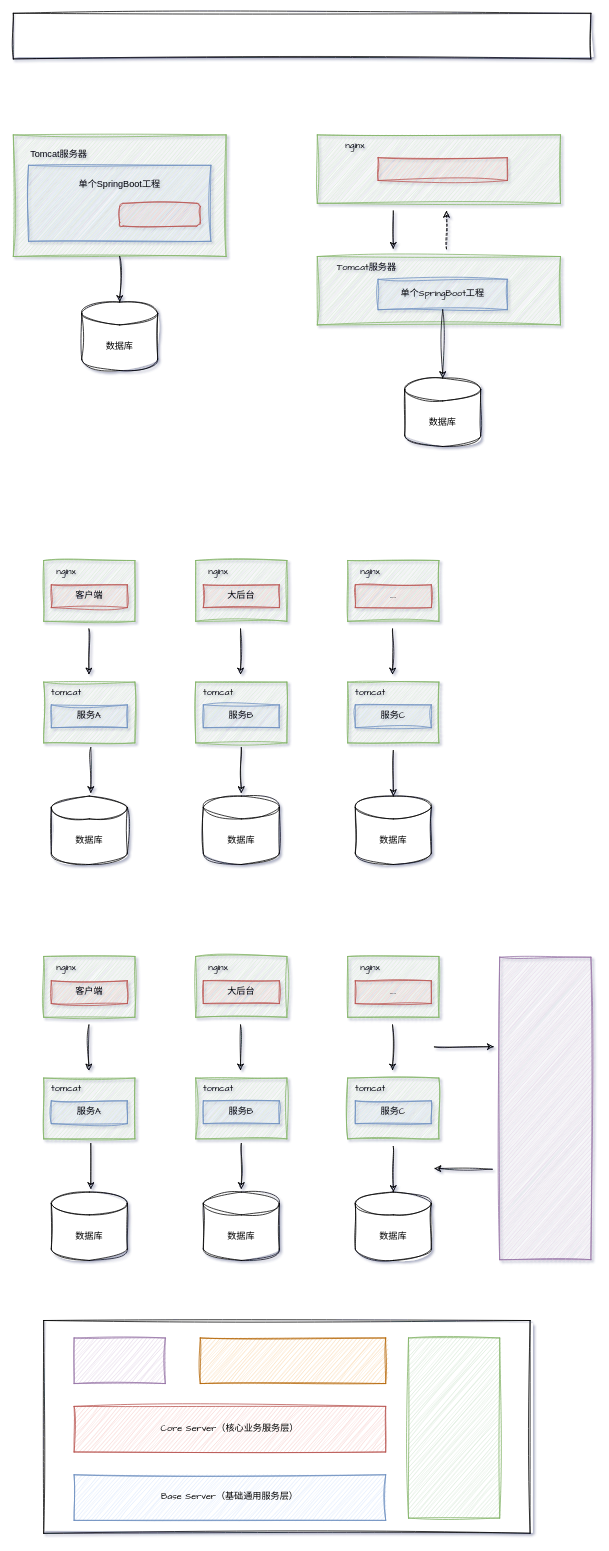
Some shapes in this 609 by 1551 pixel diagram are drawn without their labels. The box of each missing label's shape, as (x1, y1, x2, y2) in pixels:
BFF层（Backend for front）: (200, 1337, 386, 1384)
open api: (73, 1337, 165, 1384)
SDK （公共依赖）: (408, 1337, 500, 1518)
从巨石到微尘：项目微服务架构拆分思想和拆分过程: (13, 13, 591, 59)
前端服务: (377, 157, 507, 180)
前端静态资源: (119, 203, 200, 226)
单点登录SSO 提供统一账号注册登录服务（当前包含用户账号等技术数据的统一管理能力）: (499, 956, 591, 1260)
